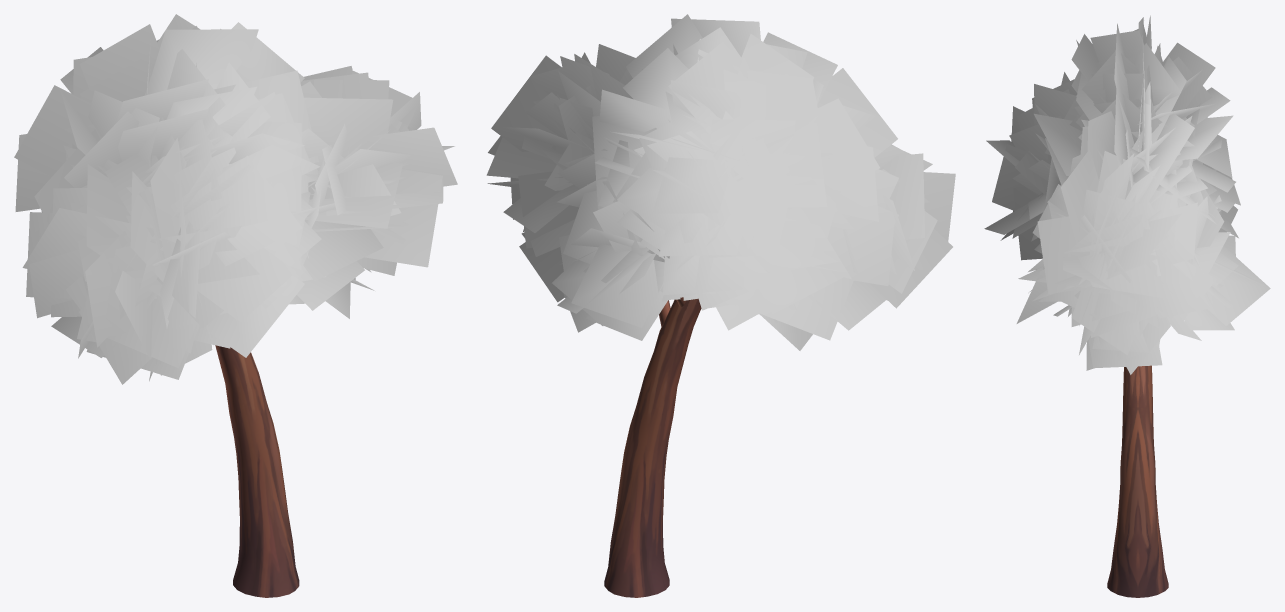
Rendered from Tree_02-A.fbx.
The picture shows the model from 3 angles, left to right: view 1: azimuth 30°, elevation 25°; view 2: azimuth 150°, elevation 25°; view 3: azimuth 270°, elevation 25°; orthographic projection. The views are drawn at different scales.
Visible parts, largest first — view 1: Plane1650, Object032; view 2: Plane1650, Object032; view 3: Plane1650, Object032.
Part boxes in pixels (<box>): Plane1650: <box>14,14,457,384</box>; Object032: <box>215,345,299,597</box>; Plane1650: <box>486,14,955,350</box>; Object032: <box>604,297,701,597</box>; Plane1650: <box>984,15,1270,374</box>; Object032: <box>1107,365,1168,597</box>.
Size of the model in its own units: 447 by 592 by 298.
